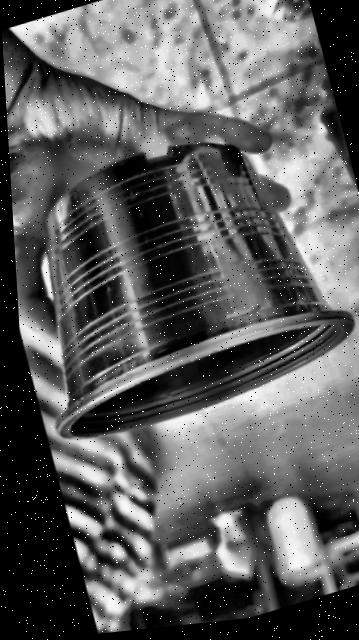pot: (47, 143, 351, 438)
